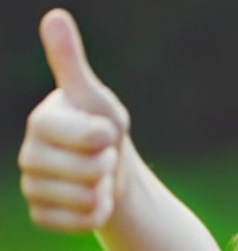best: (16, 7, 122, 233)
